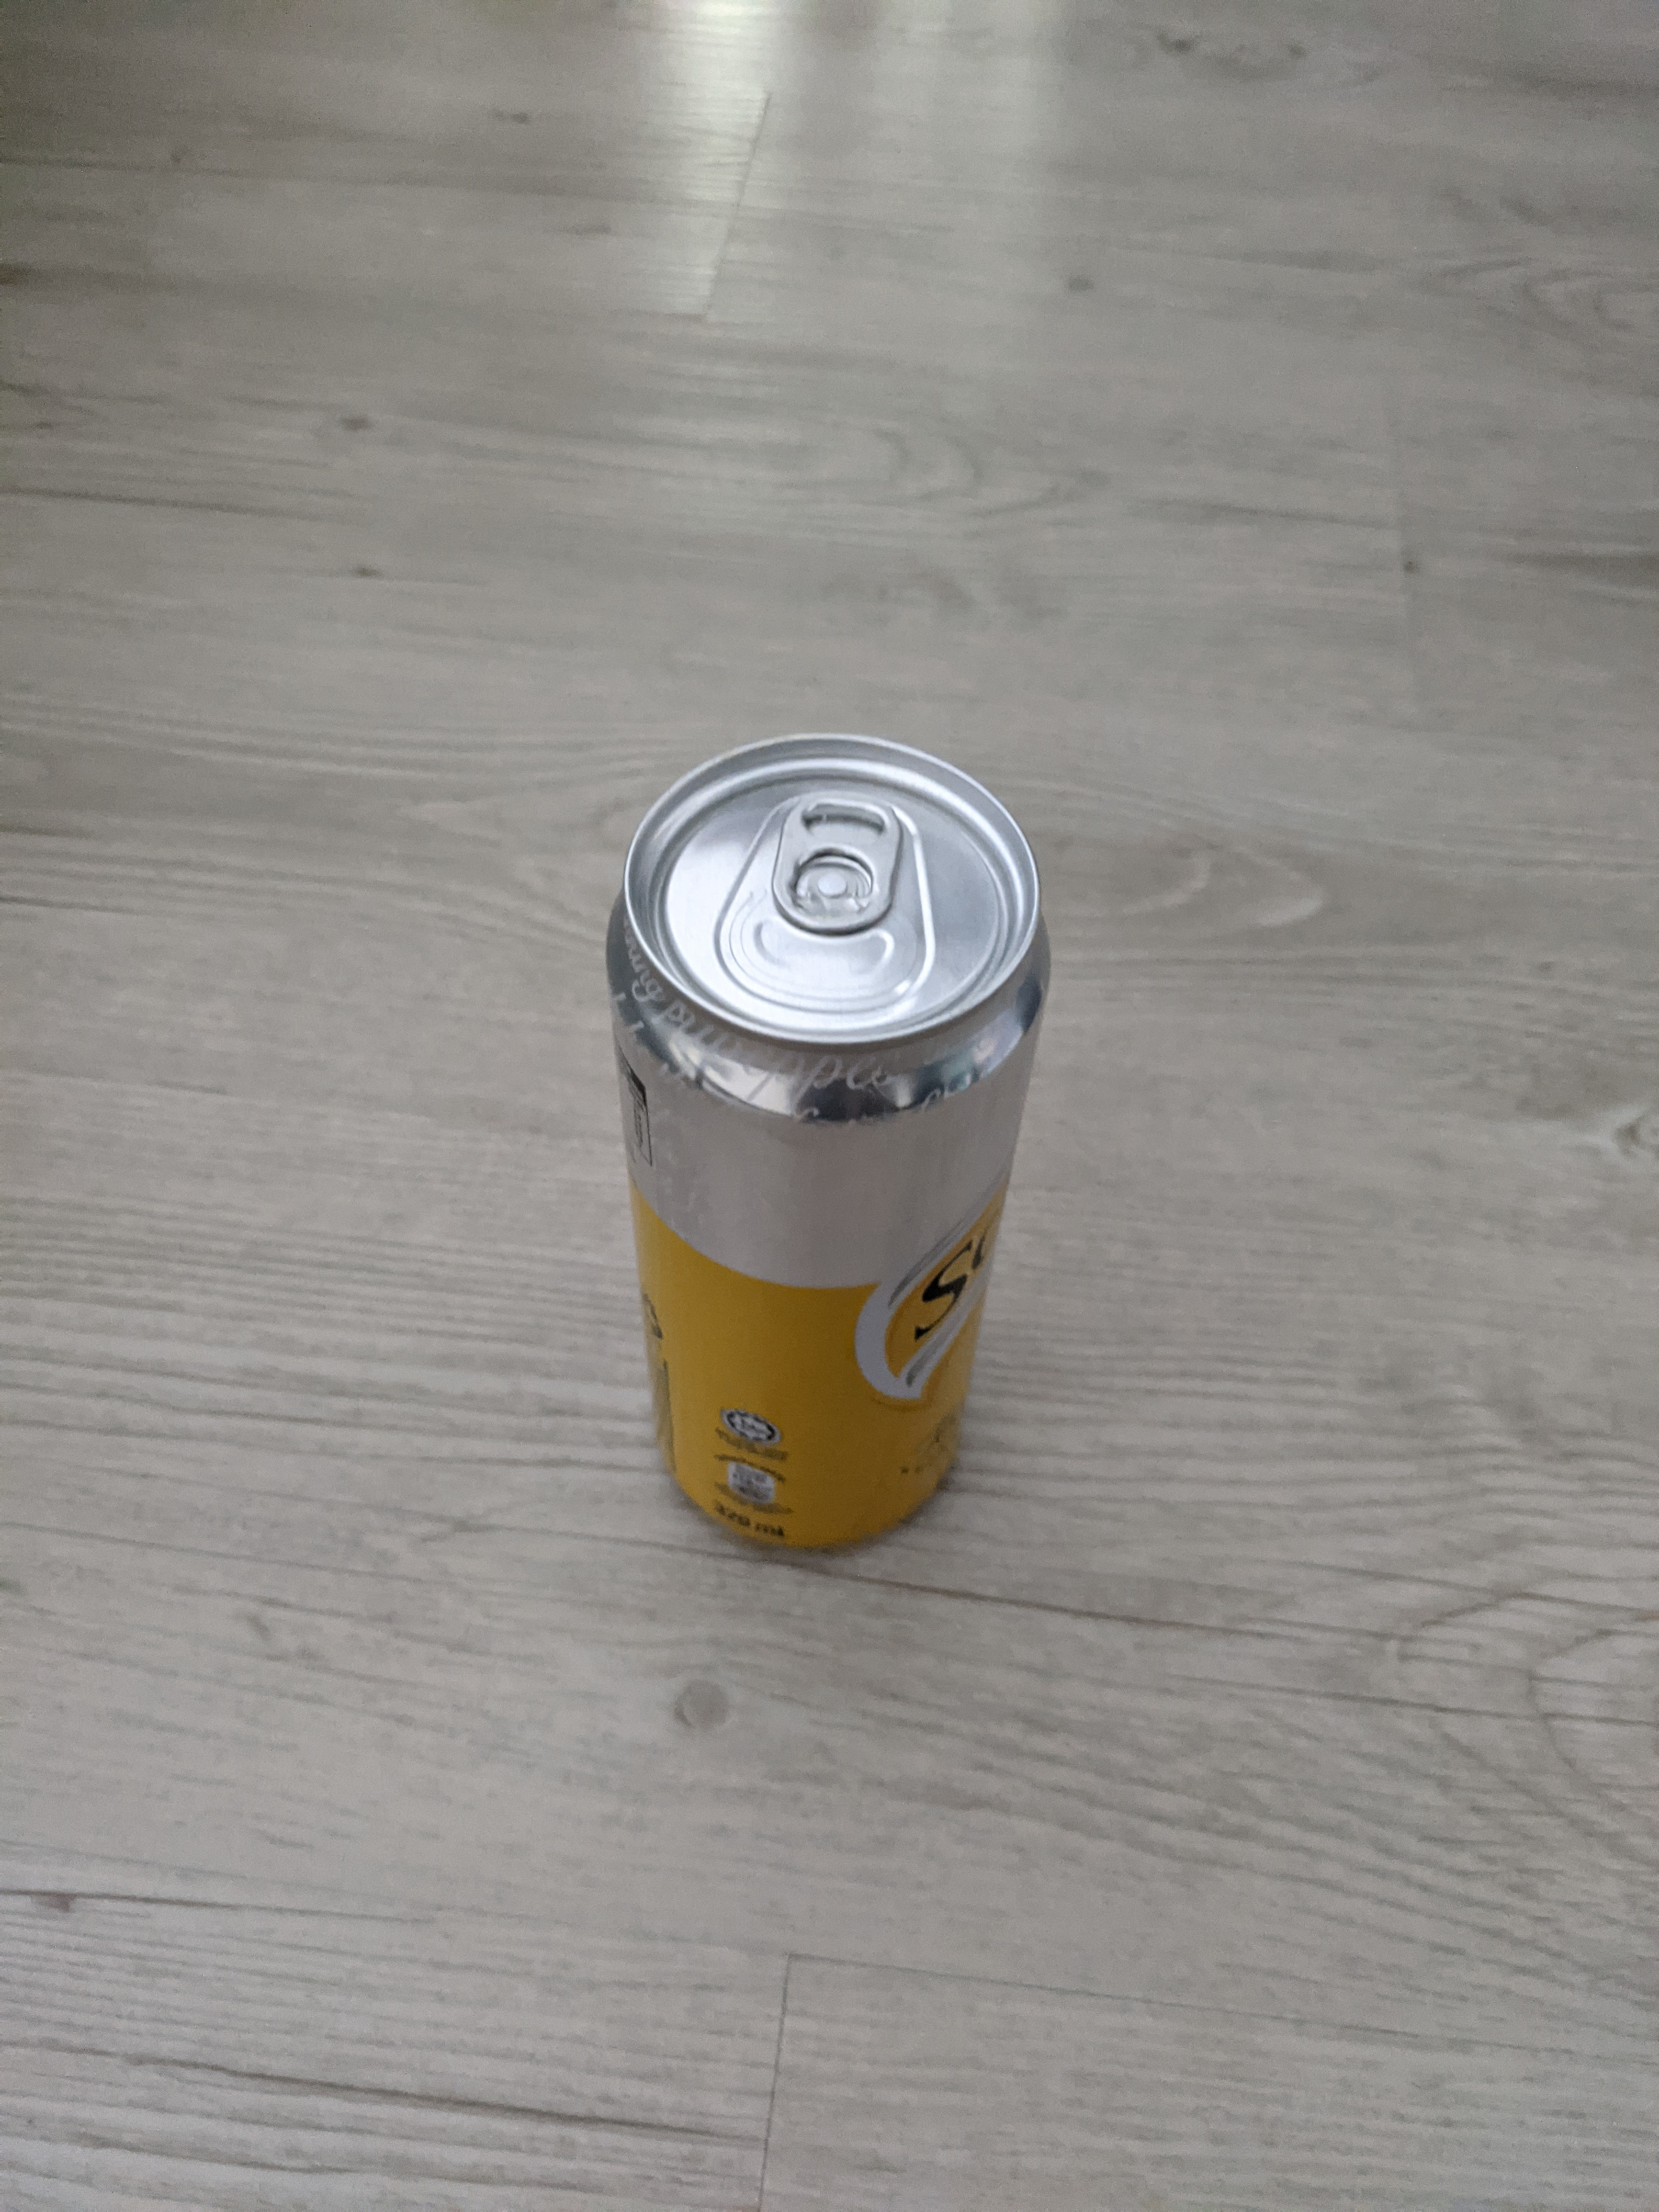schweppes drink can tonic water: (594, 718, 1065, 1583)
